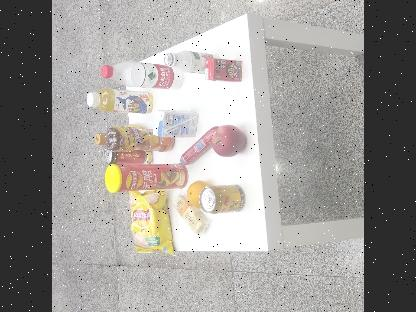Can: (200, 182, 244, 214), (100, 142, 148, 166)
Others: (103, 162, 187, 194), (151, 106, 203, 140), (199, 52, 248, 84)
Plastic Bottle: (100, 58, 184, 88), (86, 90, 152, 112)
